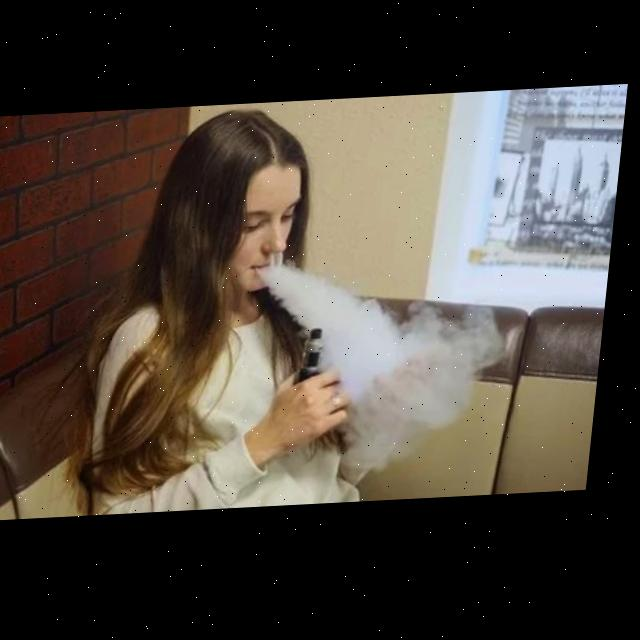vape: (304, 333, 333, 389)
